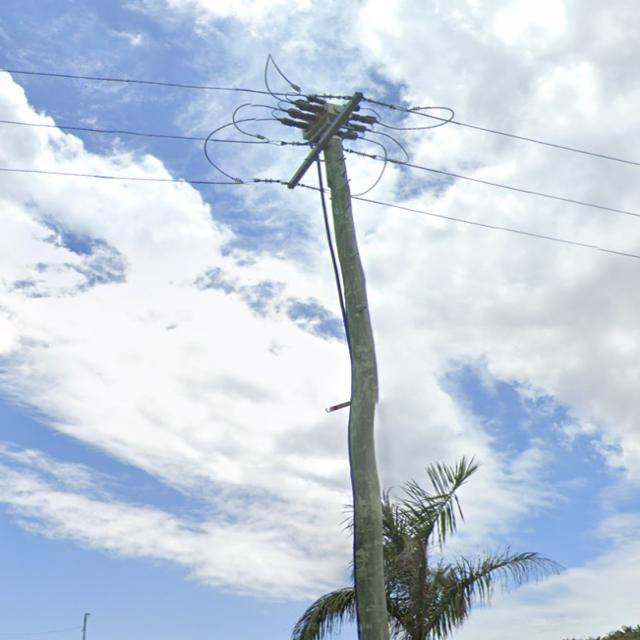HV-switch: (277, 94, 379, 144)
HV-transmission: (252, 93, 396, 191)
crossarm: (288, 92, 364, 188)
timber-pole: (324, 137, 391, 640)
